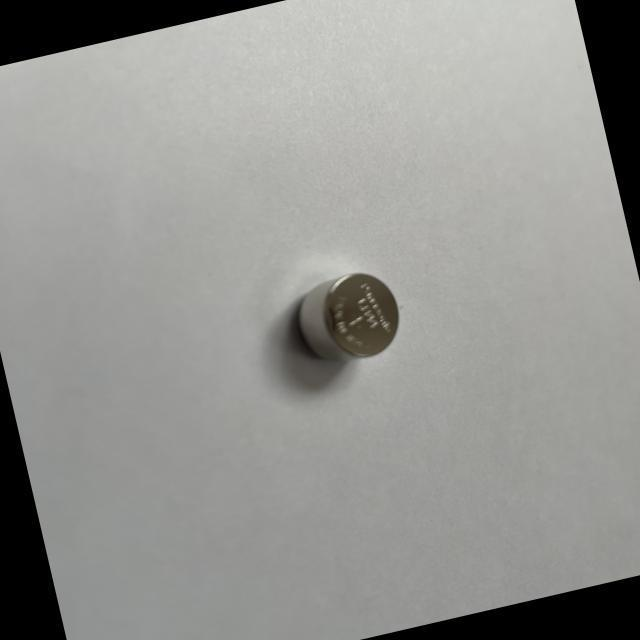COIN: (286, 262, 411, 372)
